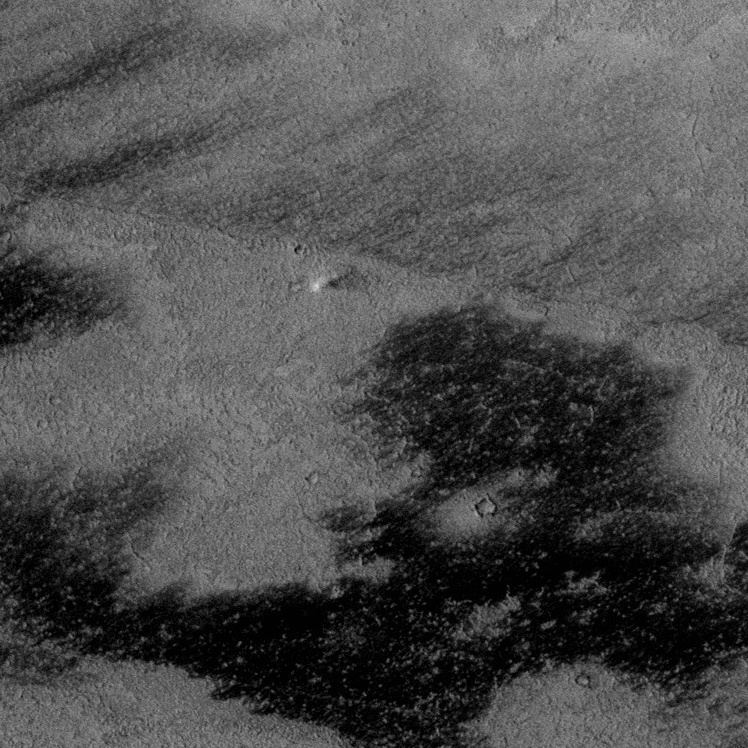dust_devil: (312, 264, 372, 294)
